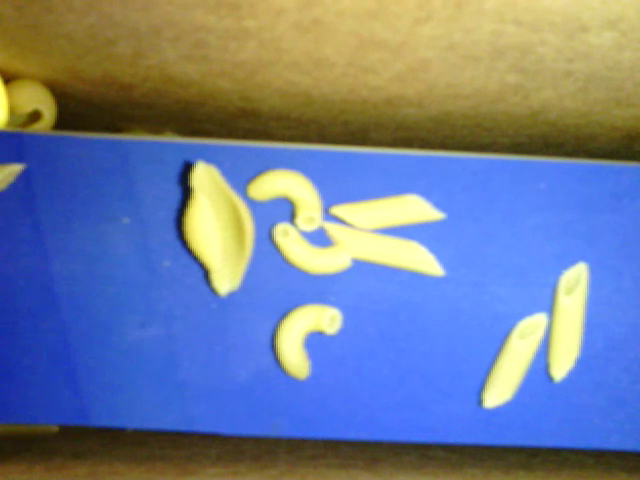elbow: (268, 301, 344, 381), (246, 167, 325, 236), (270, 220, 353, 277)
penne: (323, 218, 449, 279), (480, 310, 549, 408), (548, 257, 592, 388), (327, 188, 448, 233), (3, 163, 27, 191)
shell: (173, 159, 255, 296), (4, 77, 58, 138)
